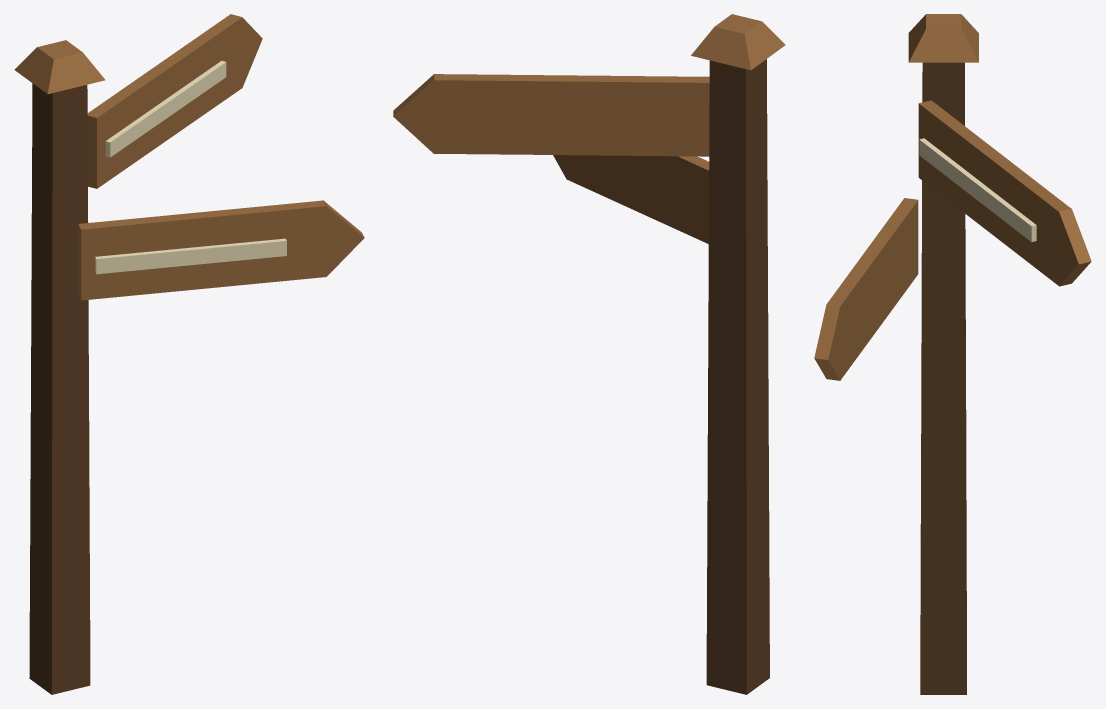
The model's file is signpost_1.glb.
3 views of the same model, side by side, from view 1: azimuth 30°, elevation 25°; view 2: azimuth 150°, elevation 25°; view 3: azimuth 270°, elevation 25° (orthographic). The views are drawn at different scales.
Visible parts, largest first — view 1: signpost_1; view 2: signpost_1; view 3: signpost_1.
Part boxes in pixels (left/top/right/bottom): signpost_1: left=14, top=14, right=364, bottom=694; signpost_1: left=393, top=14, right=785, bottom=694; signpost_1: left=814, top=14, right=1091, bottom=694.
Size of what is drawn, in the model's own units: 1.23 by 2.5 by 0.9473.
